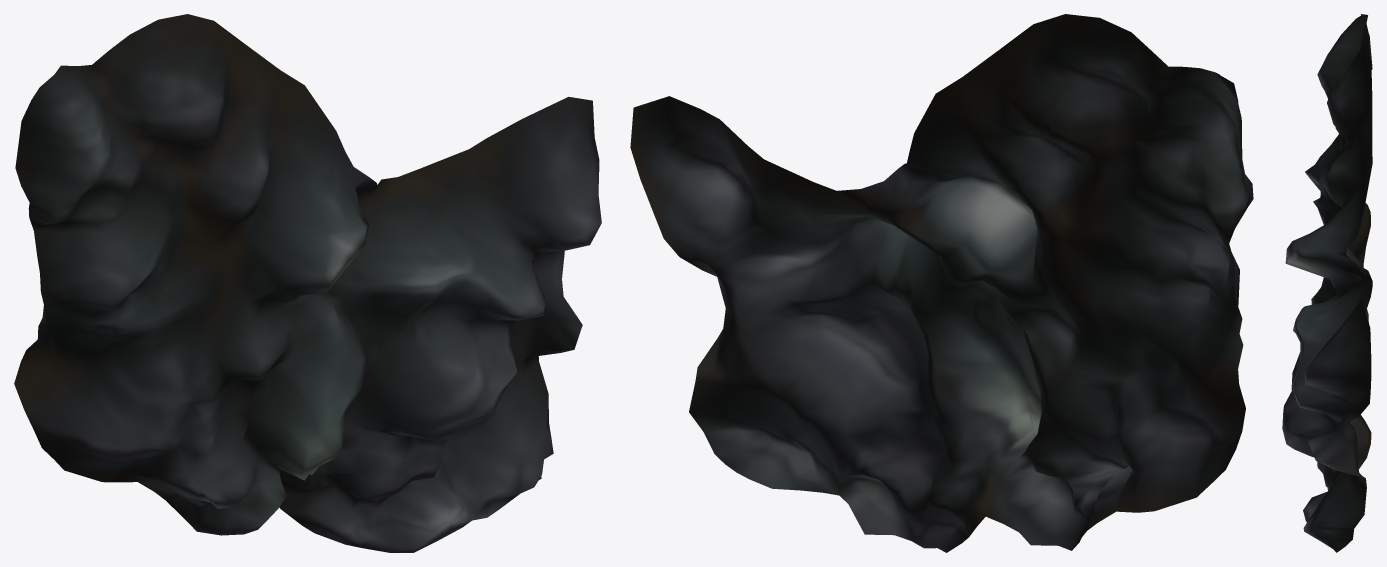
File: Mussels10.fbx
The picture shows the model from 3 angles, left to right: view 1: azimuth 30°, elevation 25°; view 2: azimuth 150°, elevation 25°; view 3: azimuth 270°, elevation 25°; orthographic projection. The views are drawn at different scales.
Visible parts, largest first — view 1: Mussels10; view 2: Mussels10; view 3: Mussels10.
Part boxes in pixels (<box>): Mussels10: <box>14,14,601,552</box>; Mussels10: <box>630,14,1253,552</box>; Mussels10: <box>1282,14,1372,552</box>.
Bounding box in the file's own units: 49.49 × 46.06 × 9.09.
